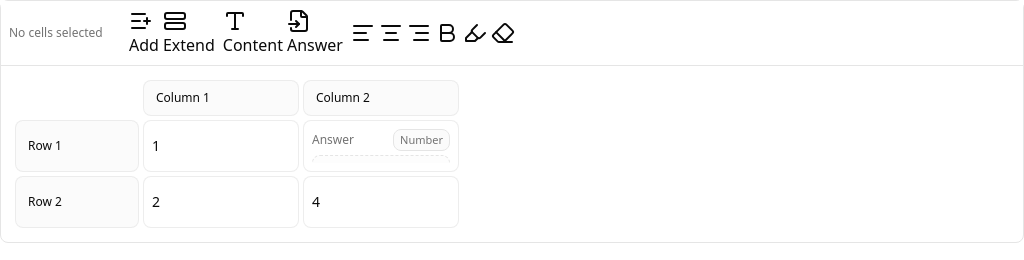
Scenario: TableCanvas › supports mobile-visible extend selection mode
This screenshot has width=1024, height=260.
Press the mouse on the button "1" at (221, 146), box [143, 120, 299, 172]
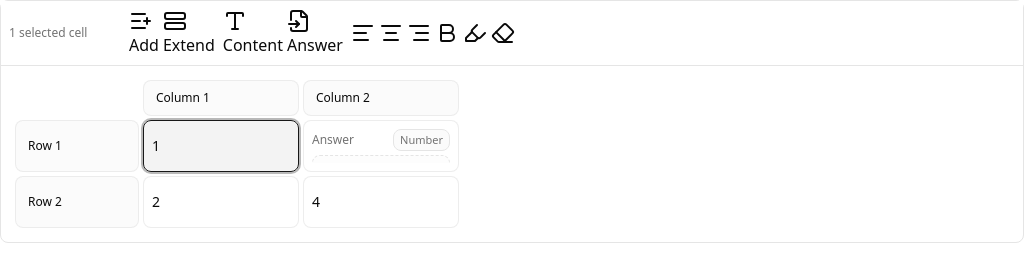
Click the button "Extend" at (189, 33), box [163, 9, 215, 57]
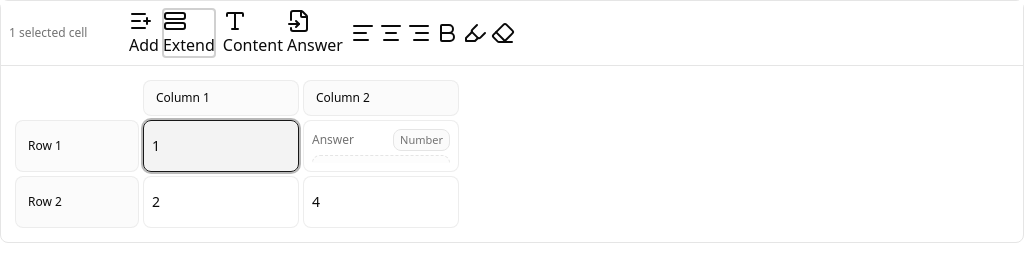
Press the mouse on the button "4" at (381, 202), box [303, 176, 459, 228]
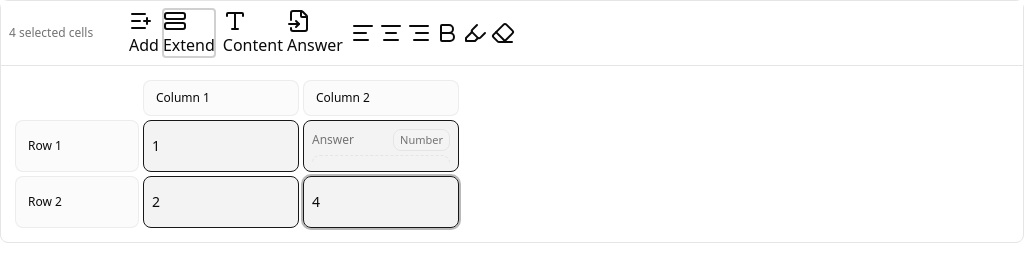
expect the text "4 selected cells" is shown: met, box [9, 24, 93, 41]
